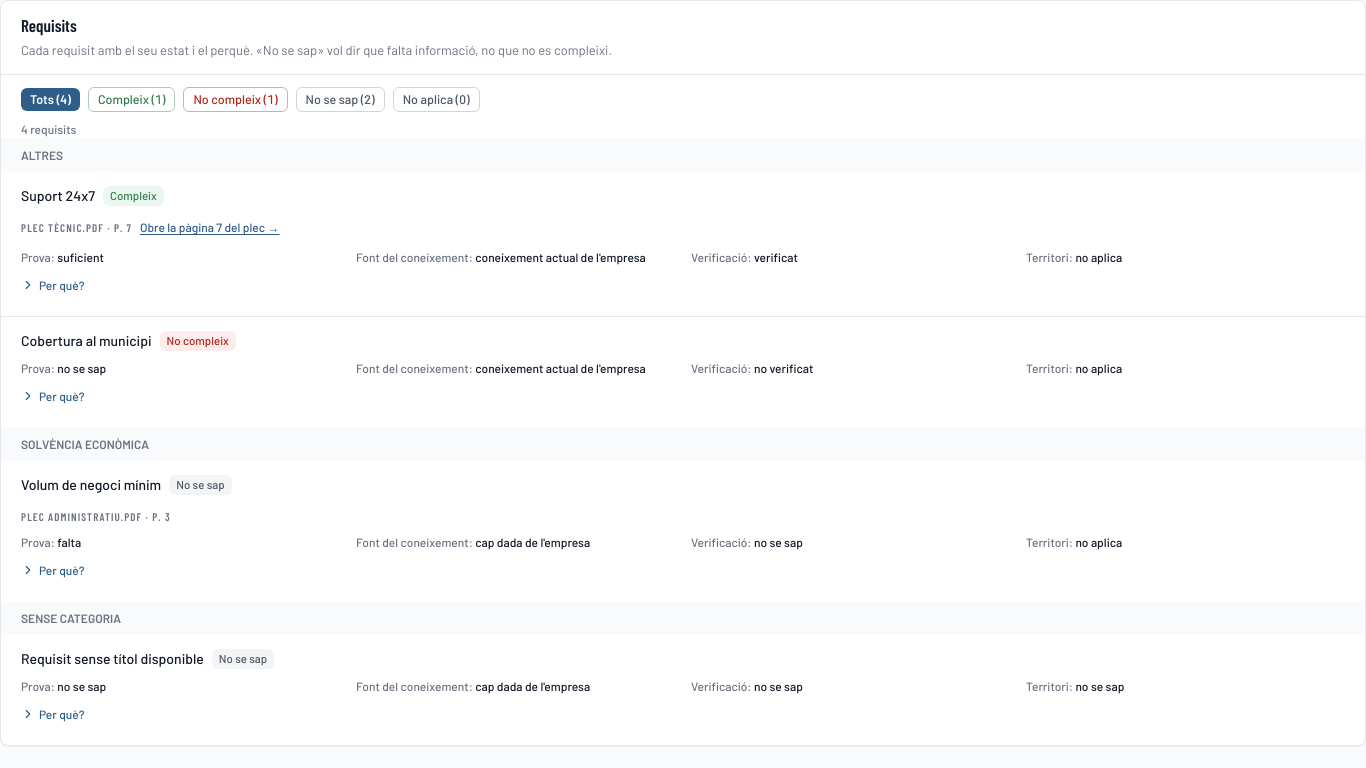
Requisits › expandible amb teclat i aria-expanded; el text del motor tal com és
Step 1. Click the button "Per què?" below "Suport 24x7" → (53, 285), box [21,276,84,294]
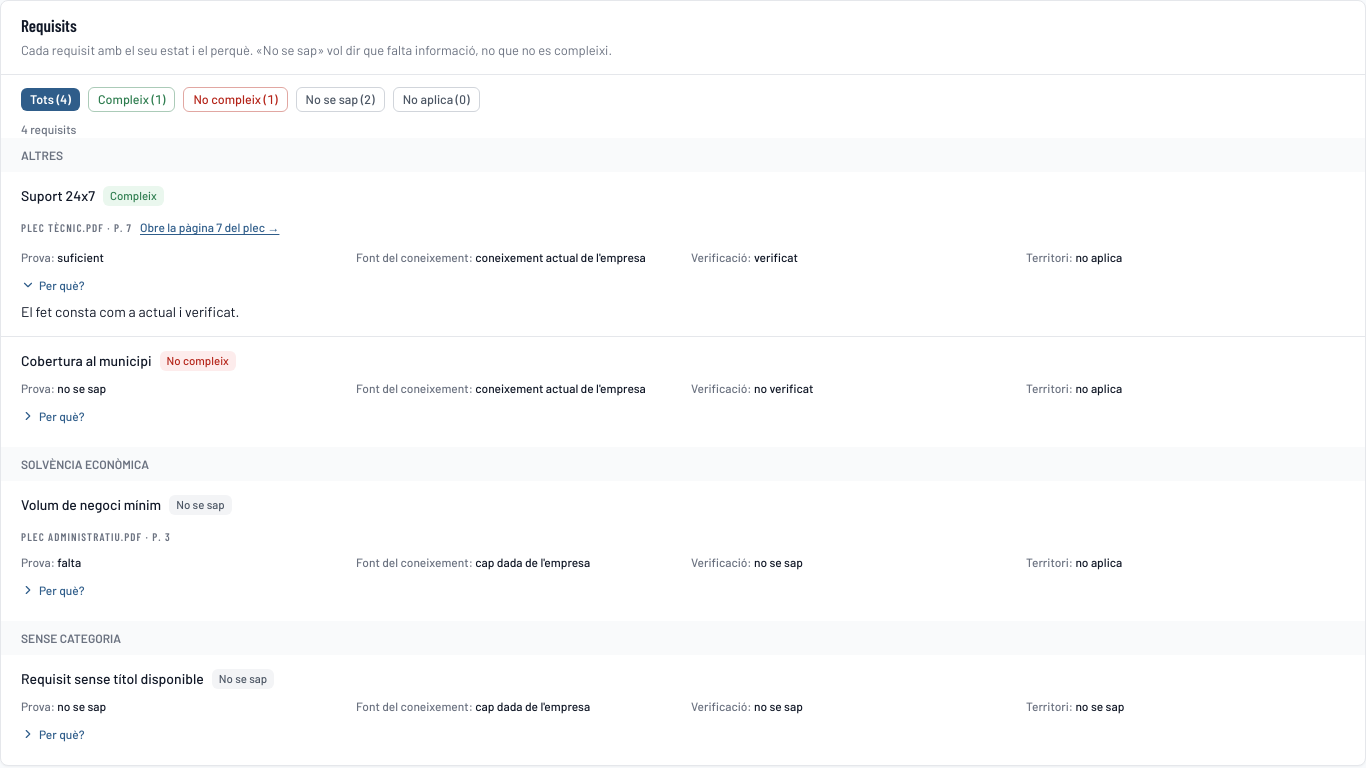
Check: the button "Per què?" below "Suport 24x7" is expanded, box [21,276,84,294]
Check: the element showing "El fet consta com a actual i verificat." is shown, box [21,303,240,320]
